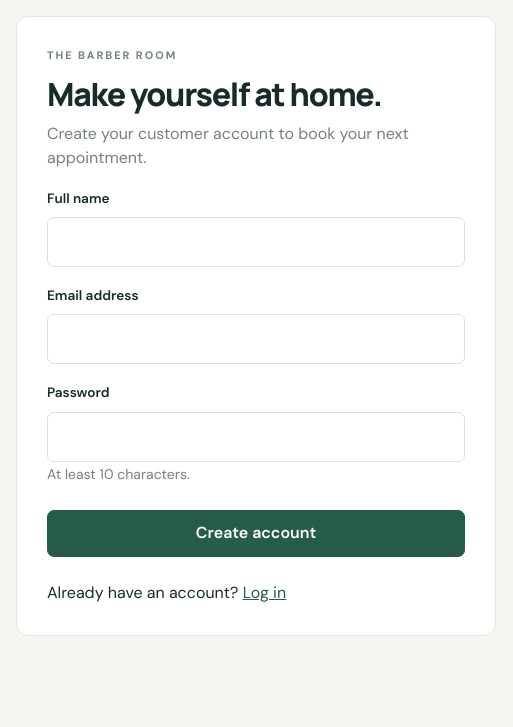
Test: customer and barber flows › registration sends customer details and displays server errors
In the field labelled "Full name": coordinates (256, 242) top-left (47, 217), bottom-right (465, 267), type "Test Customer"
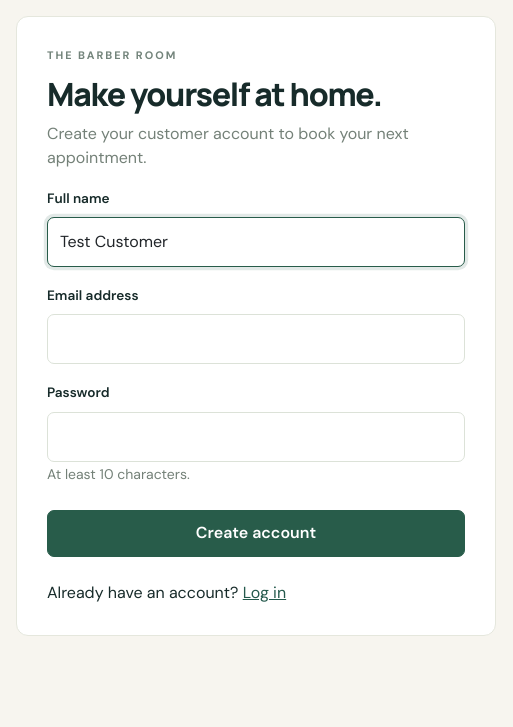
In the field labelled "Email address": coordinates (256, 340) top-left (47, 314), bottom-right (465, 364), type "test@example.com"
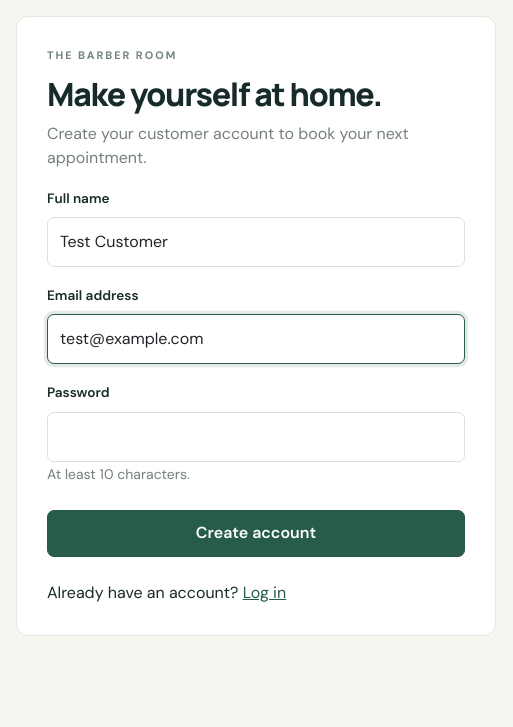
In the password field labelled "Password": coordinates (256, 437) top-left (47, 412), bottom-right (465, 462), type "ExamplePassword123!"
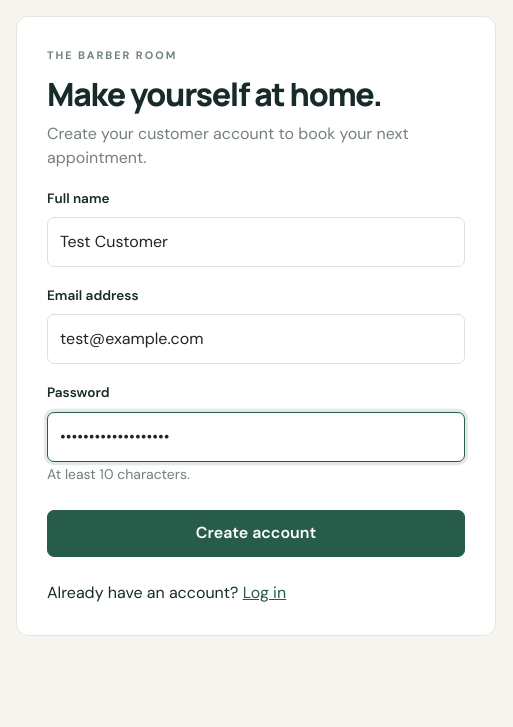
Click the button "Create account": coordinates (256, 533) top-left (47, 510), bottom-right (465, 557)
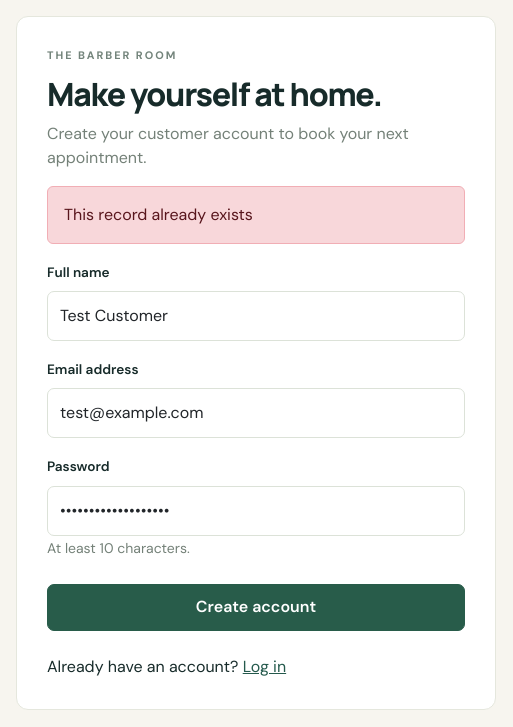
Now the message reads "This record already exists", box top-left (64, 204), bottom-right (253, 225)
